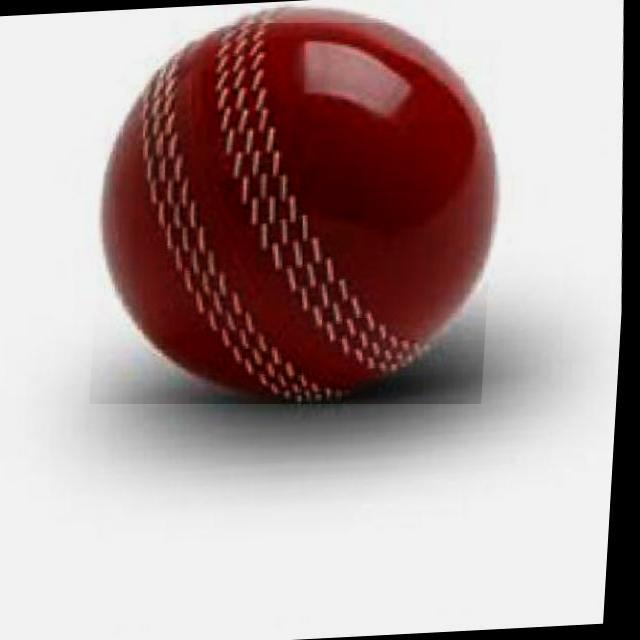-: (94, 23, 504, 404)
